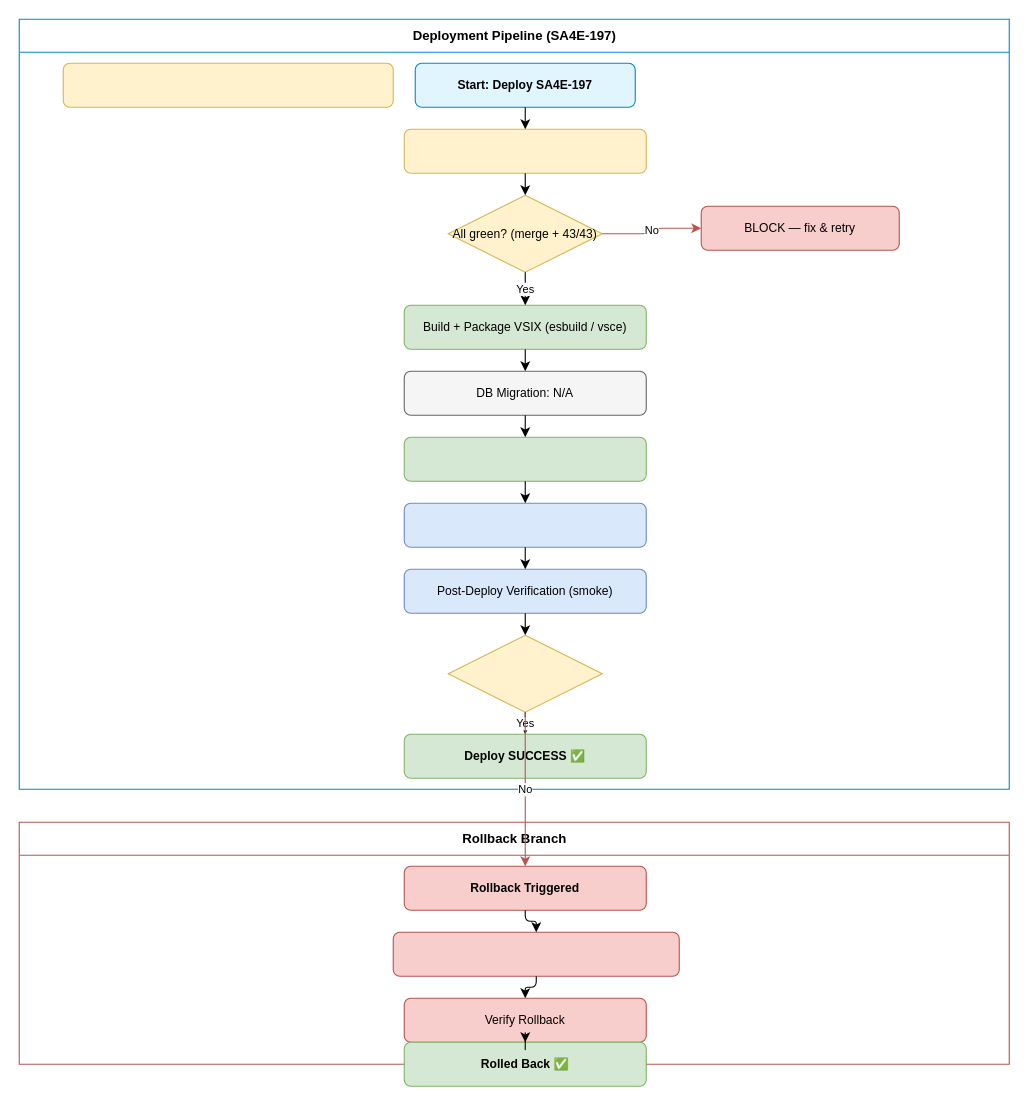
The diagram is 1029 pixels wide and 1106 high, and some of its shapes have lost their labels. The centre of each missing label's shape, as x and y in pixels:
"Config: execute_shell registered" belongs at (524,524).
"Environments: DEV → SIT → UAT → PROD" belongs at (227,84).
"Pre-Deploy Checklist" belongs at (524,150).
"Publish / Install VSIX" belongs at (524,458).
"Sanity PASS?" belongs at (524,673).
"Uninstall bad + Install prev VSIX" belongs at (535,953).
